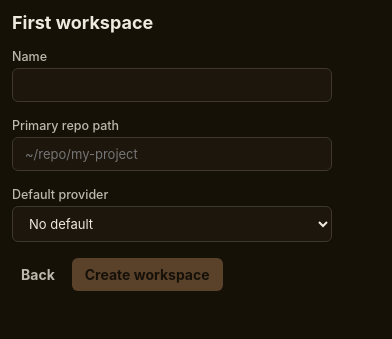
Scenario: WorkspaceStep › shows an inline error and does not advance on failure
In the field labelled "Name": (172, 85) [12,68,332,102], type "mads"
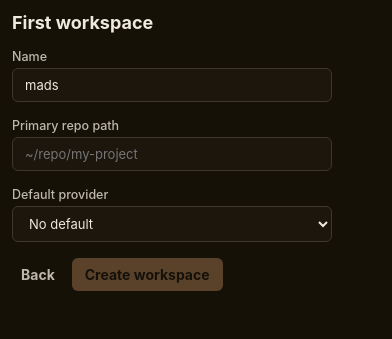
In the field labelled "Primary repo path": (172, 154) [12,137,332,171], type "/repo"
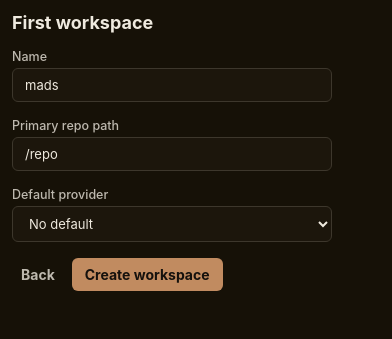
Click the button "Create workspace": (147, 274) [72,258,223,291]
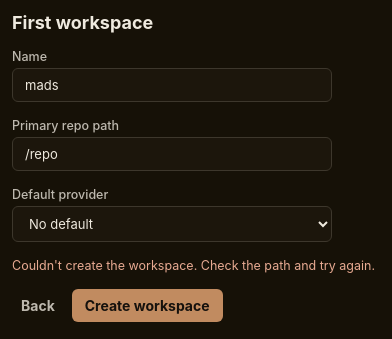
expect the text "Couldn't create the workspace. Check the path and try again." is shown: met, box [12,258,375,273]
